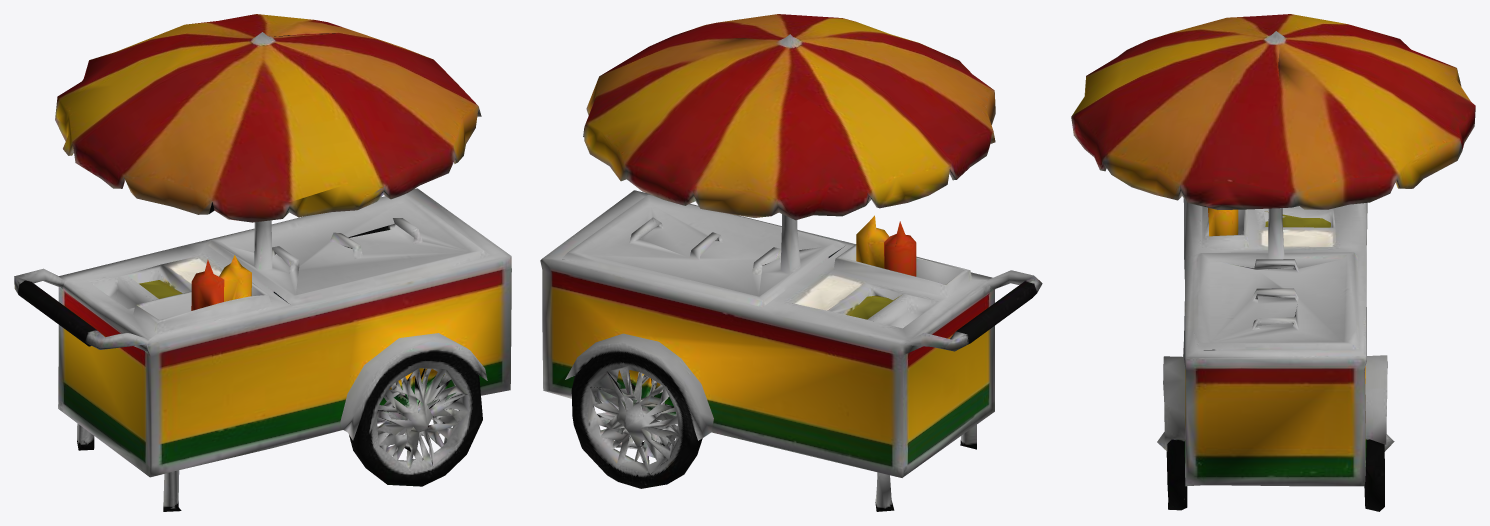
Rendered from hot_dog_cart.glb.
3 views of the same model, side by side, from view 1: azimuth 30°, elevation 25°; view 2: azimuth 150°, elevation 25°; view 3: azimuth 270°, elevation 25° (orthographic). The views are drawn at different scales.
Parts seen in each view (by area): view 1: hot_dog_cart; view 2: hot_dog_cart; view 3: hot_dog_cart.
Boxes of the visible parts, left/top/right/bottom form: hot_dog_cart: left=14, top=14, right=511, bottom=511; hot_dog_cart: left=540, top=14, right=1042, bottom=511; hot_dog_cart: left=1071, top=14, right=1475, bottom=511.
Size of the model in its own units: 2.2 by 2.22 by 1.92.
Materials: 1 (1 with a texture image).
